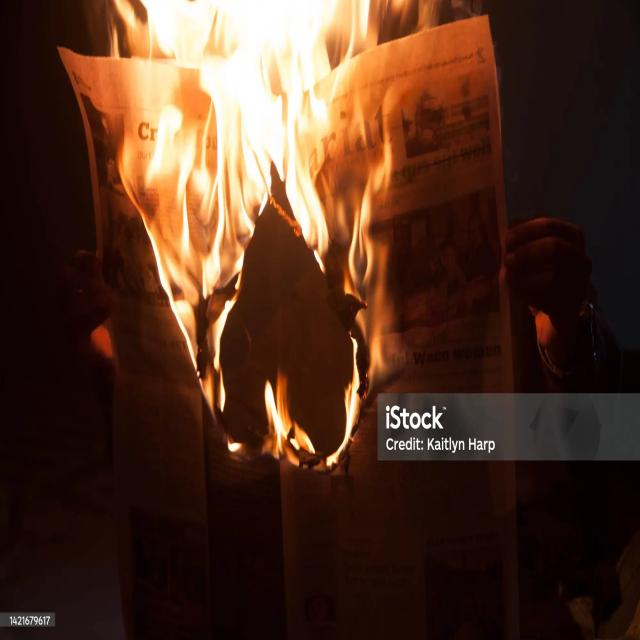fire: (108, 0, 392, 467)
